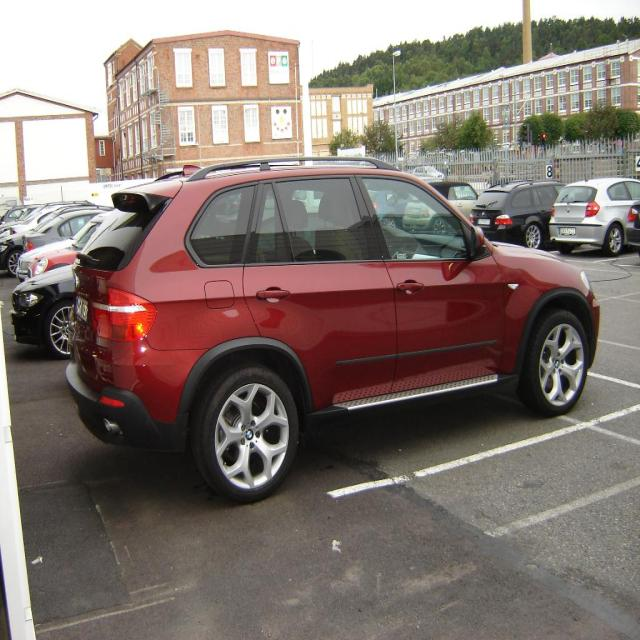car: (57, 160, 606, 504)
